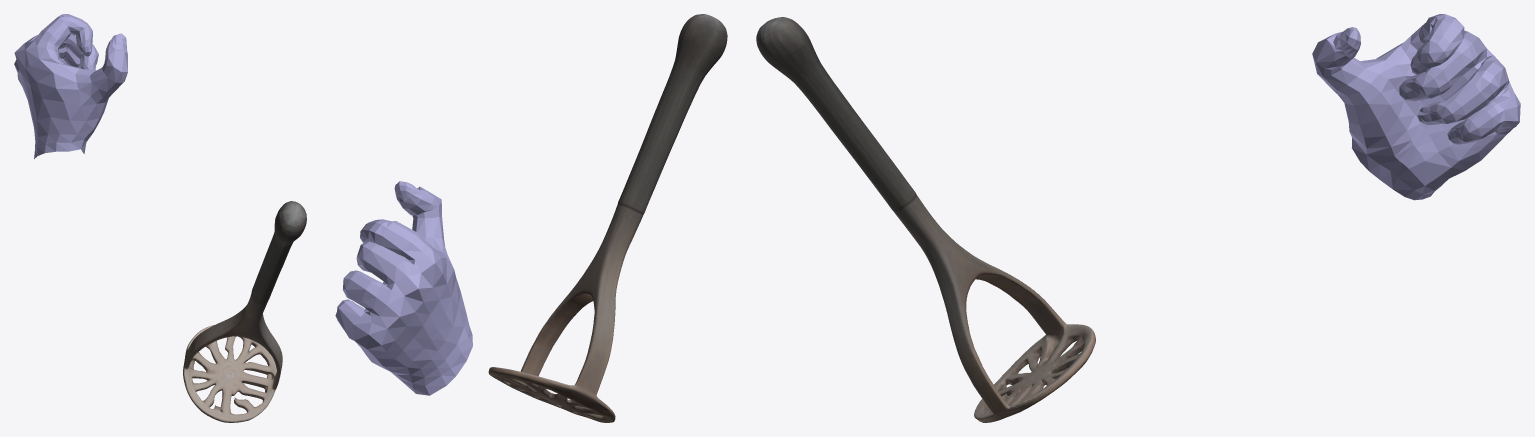
File: frame_0012_source_000012_hand_object.glb
3 renders of one model, left to right at view 1: azimuth 30°, elevation 25°; view 2: azimuth 150°, elevation 25°; view 3: azimuth 270°, elevation 25°, orthographic. The views are drawn at different scales.
Parts seen in each view (by area): view 1: world; view 2: world; view 3: world.
Part boxes in pixels (x1=…): world: x1=14, y1=14, x2=306, y2=422; world: x1=335, y1=14, x2=727, y2=422; world: x1=756, y1=14, x2=1520, y2=422.
Size of the model in its own units: 0.0922 by 0.2374 by 0.4176.
